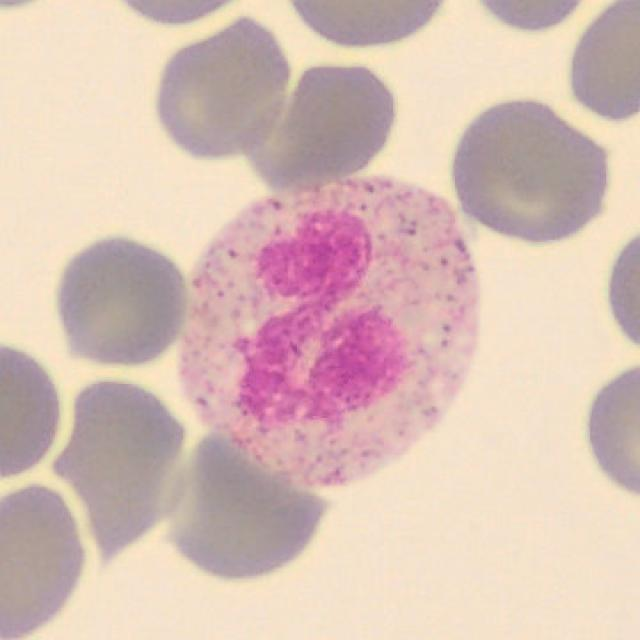Neutrofilo segmentado: (176, 174, 480, 492)
